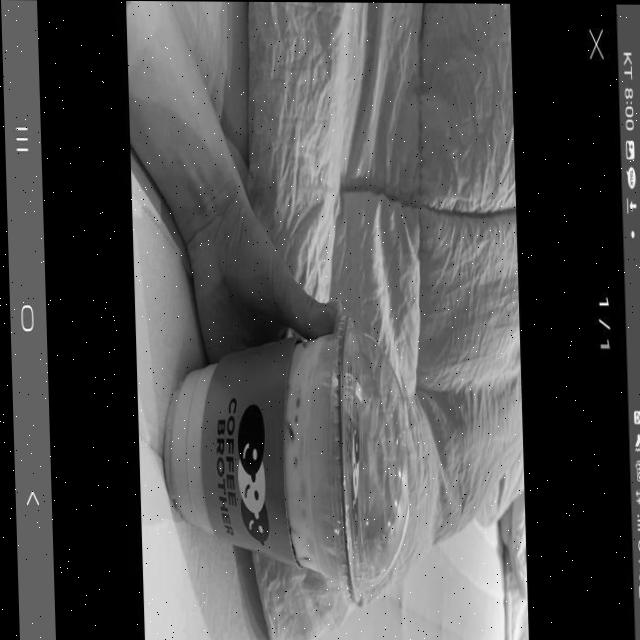cup: (153, 271, 416, 620)
